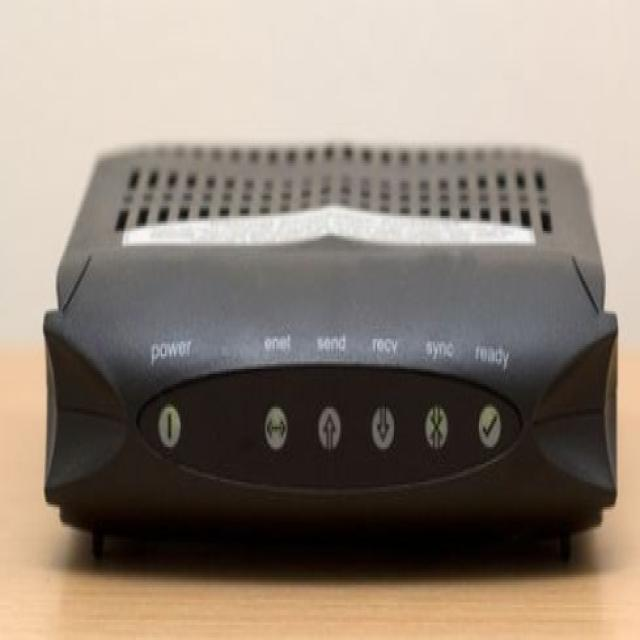electronic: (42, 138, 619, 562)
